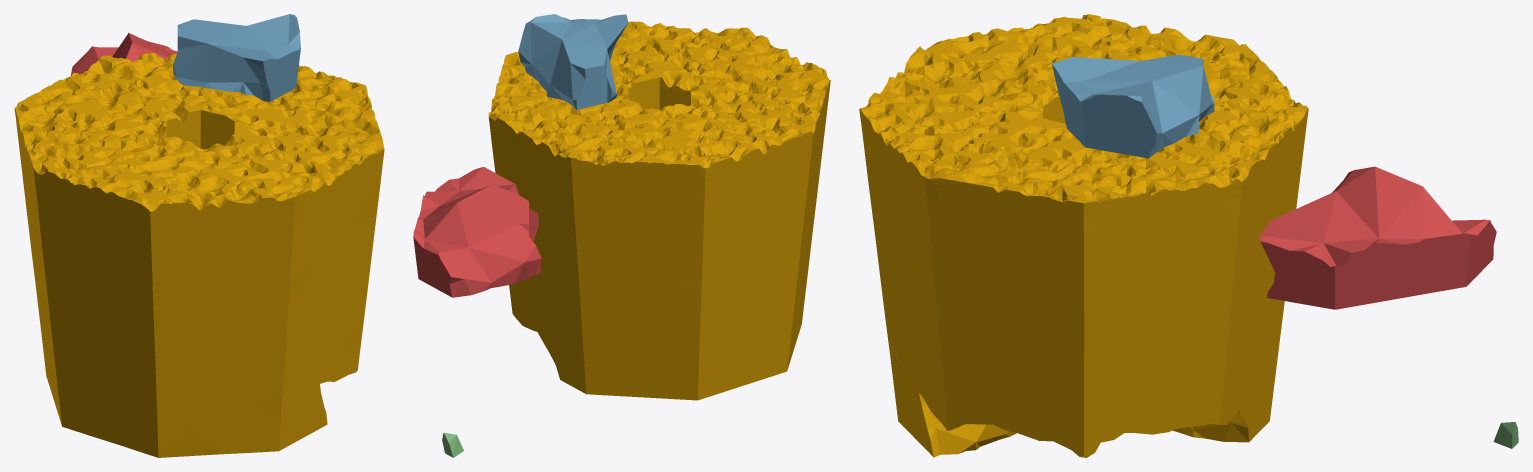
Rendered from fractured_41_4pcs_transformed.glb.
3 renders of one model, left to right at view 1: azimuth 30°, elevation 25°; view 2: azimuth 150°, elevation 25°; view 3: azimuth 270°, elevation 25°, orthographic. The views are drawn at different scales.
Visible parts, largest first — view 1: piece_0.obj, piece_2.obj, piece_1.obj; view 2: piece_0.obj, piece_1.obj, piece_2.obj; view 3: piece_0.obj, piece_1.obj, piece_2.obj.
Part boxes in pixels (left/top/right/bottom): piece_0.obj: left=14, top=53, right=384, bottom=457; piece_2.obj: left=173, top=14, right=300, bottom=101; piece_1.obj: left=70, top=33, right=177, bottom=76; piece_0.obj: left=488, top=21, right=830, bottom=400; piece_1.obj: left=413, top=167, right=541, bottom=297; piece_2.obj: left=518, top=14, right=628, bottom=109; piece_0.obj: left=859, top=14, right=1308, bottom=457; piece_1.obj: left=1259, top=166, right=1496, bottom=309; piece_2.obj: left=1052, top=54, right=1214, bottom=158.
Bounding box in the file's own units: 0.999 × 0.9611 × 1.47.
